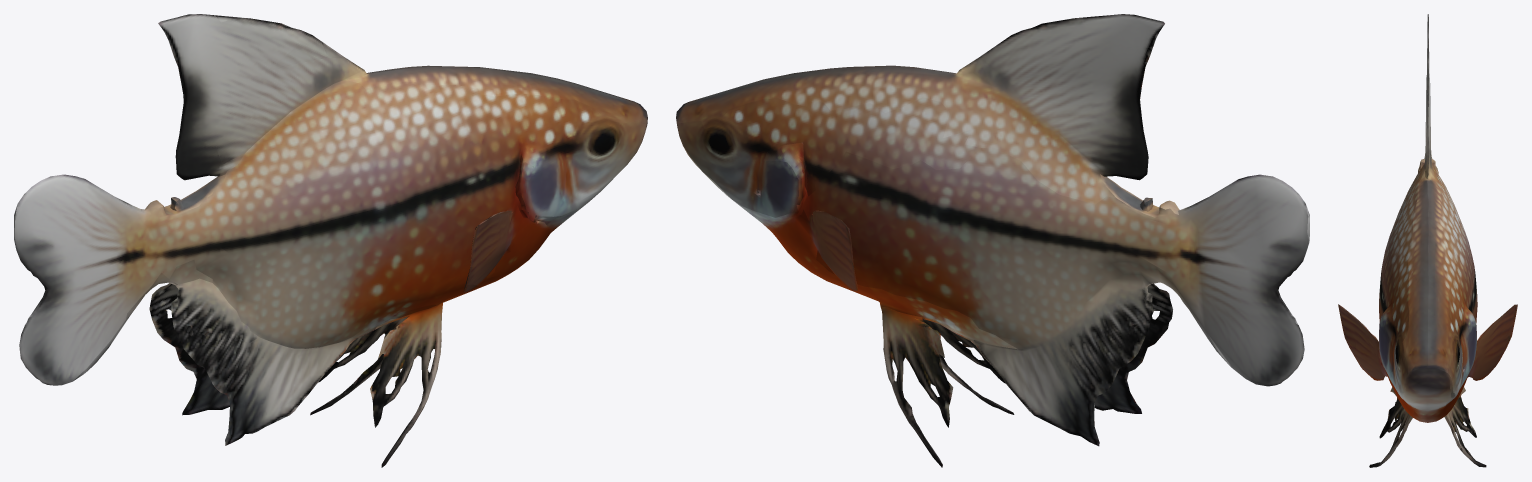
File: pearl-gourami.glb
The picture shows the model from 3 angles, left to right: view 1: azimuth 30°, elevation 25°; view 2: azimuth 150°, elevation 25°; view 3: azimuth 270°, elevation 25°; orthographic projection. The views are drawn at different scales.
Parts seen in each view (by area): view 1: geometry_0; view 2: geometry_0; view 3: geometry_0.
Part boxes in pixels (left/top/right/bottom): geometry_0: left=14, top=14, right=647, bottom=467; geometry_0: left=676, top=14, right=1309, bottom=467; geometry_0: left=1338, top=14, right=1517, bottom=467.
Bounding box in the file's own units: 1 × 0.7079 × 0.3041.
1 material, 1 textured.
